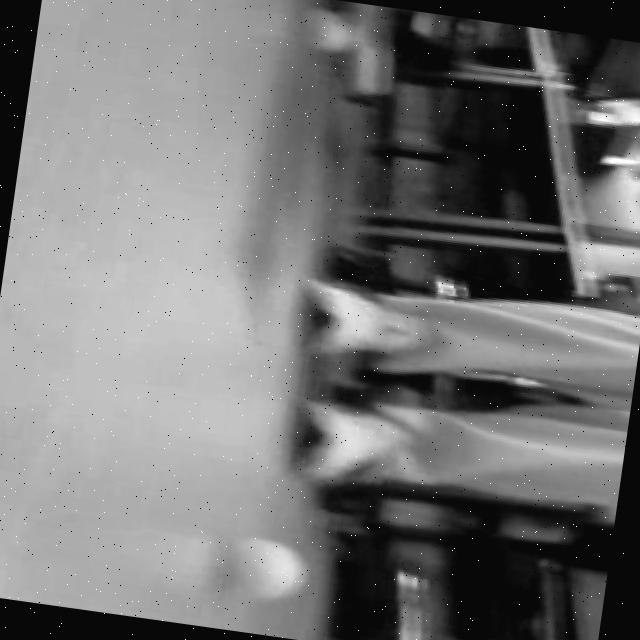ping-pong-ball: (206, 526, 322, 616), (284, 1, 372, 66)
